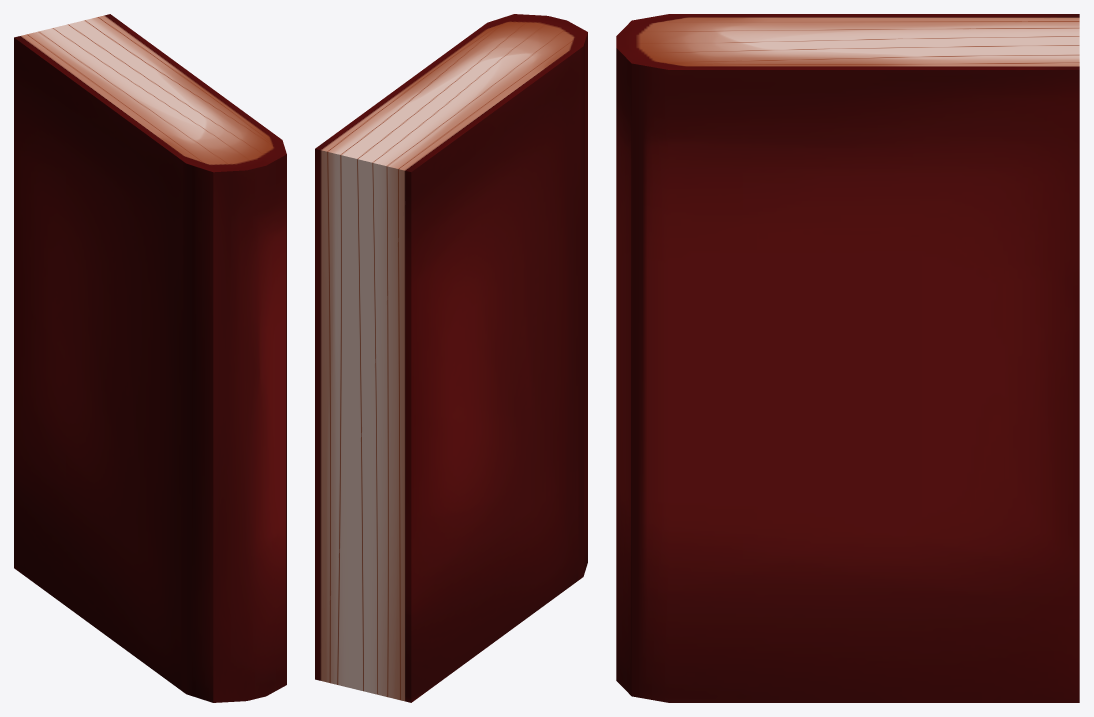
File: Book.fbx
The picture shows the model from 3 angles, left to right: view 1: azimuth 30°, elevation 25°; view 2: azimuth 150°, elevation 25°; view 3: azimuth 270°, elevation 25°; orthographic projection. The views are drawn at different scales.
Parts seen in each view (by area): view 1: BookProp; view 2: BookProp; view 3: BookProp.
Part boxes in pixels (x1,y1,x2,y2): BookProp: [14, 14, 286, 702]; BookProp: [315, 14, 587, 702]; BookProp: [616, 14, 1079, 702].
Bounding box in the file's own units: 0.6466 × 3.41 × 2.26.
